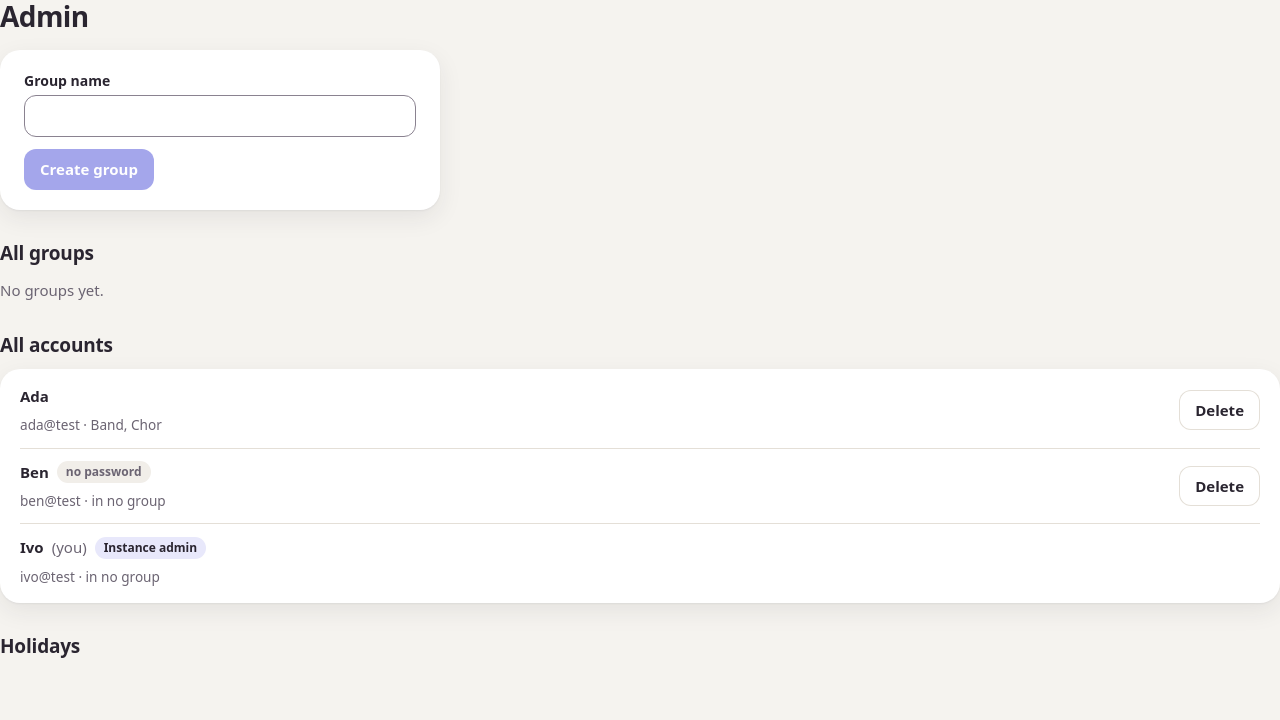
Test: the last admin of a group can't be deleted
Expected: the text "Ada" is shown, [20,385,49,407]
Click the button "Delete" in the row of "ada@test".
click(1220, 410)  # box [1179,390,1260,430]
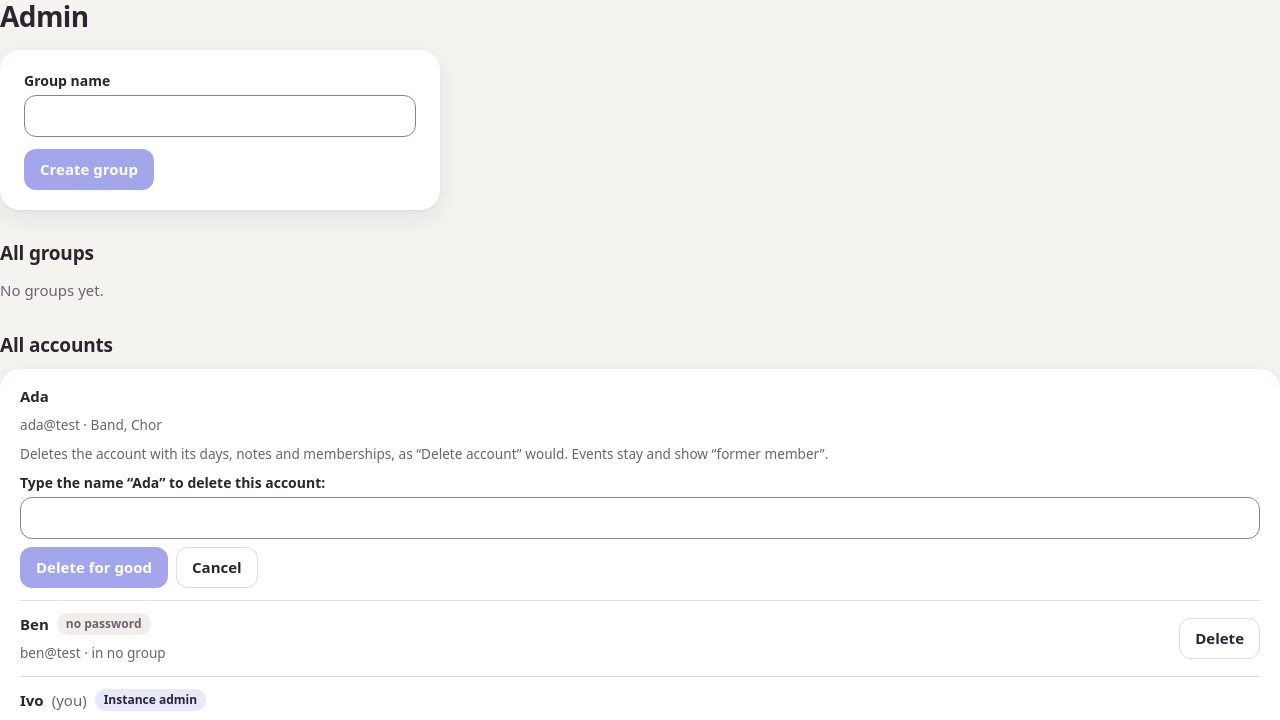
Type "Ada" into the field labelled "Type the name “Ada” to delete this account:".
click(640, 518); type("Ada")  # box [20,497,1260,540]
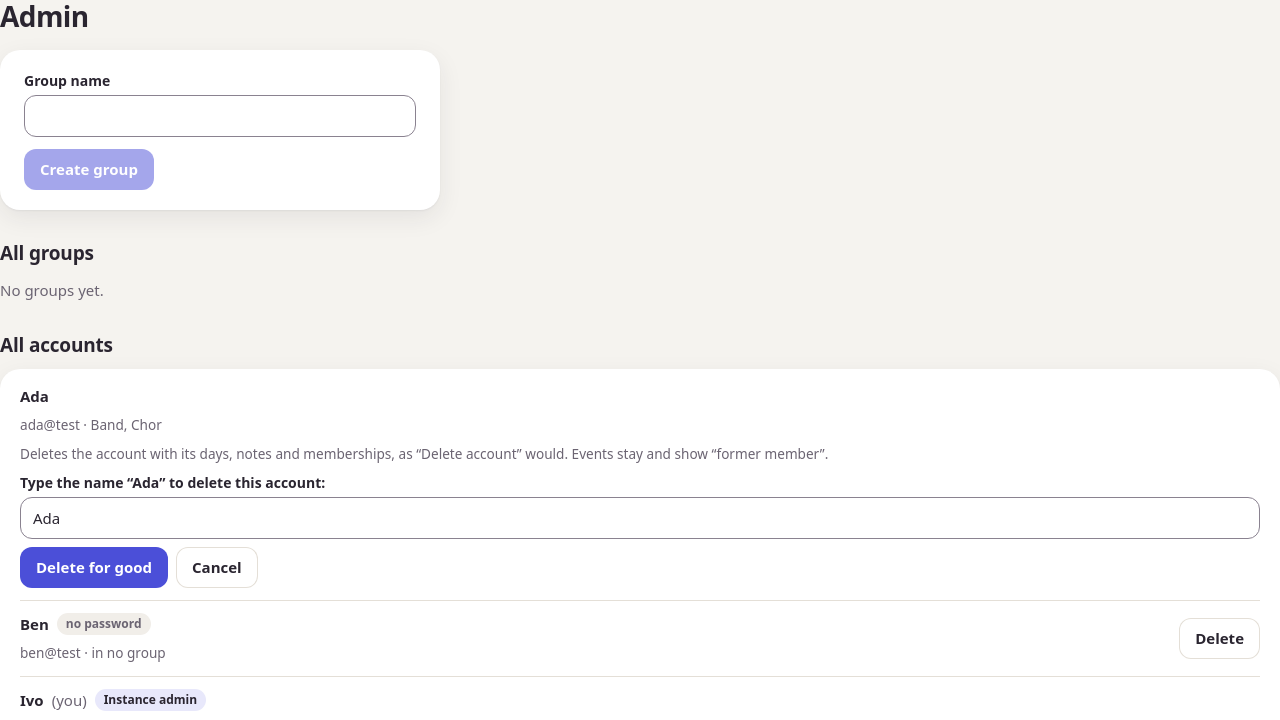
Click the button "Delete for good".
click(94, 568)  # box [20,548,168,588]
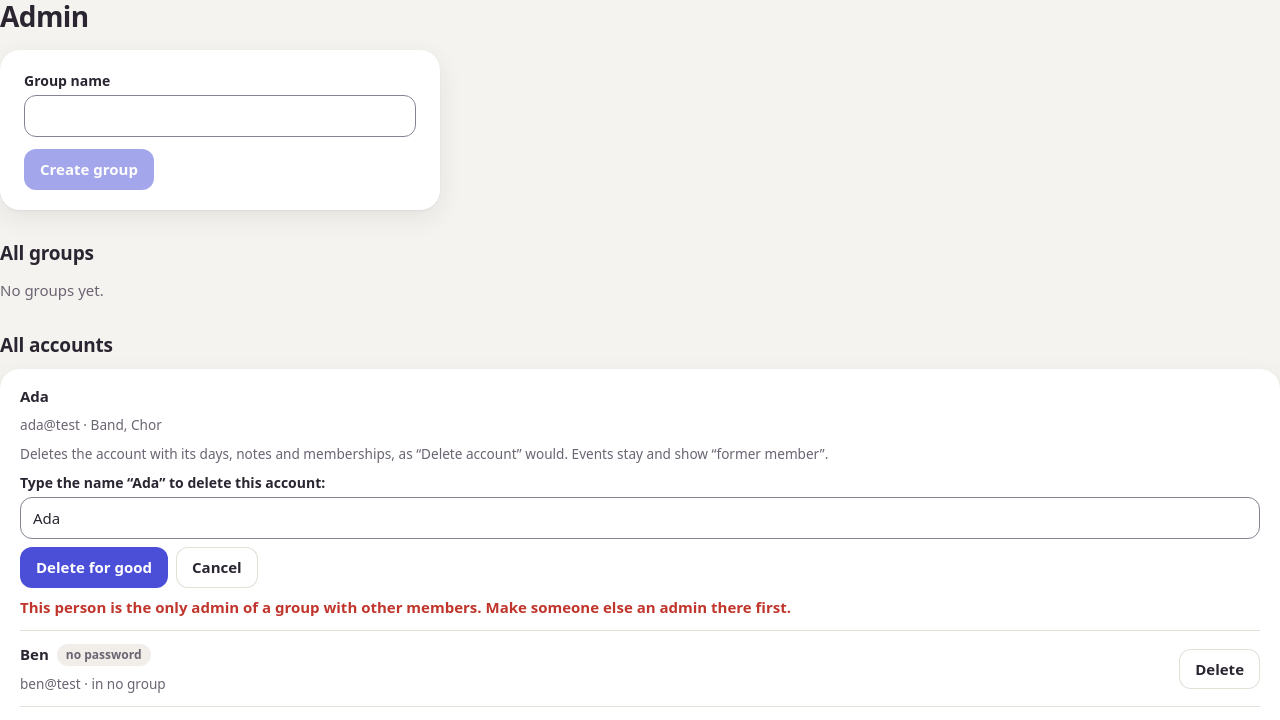
Expected: the message shows "only admin of a group", [20,597,791,617]
